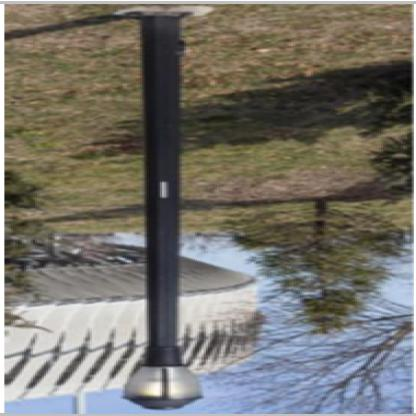Streetlights 1: (110, 10, 216, 413)
